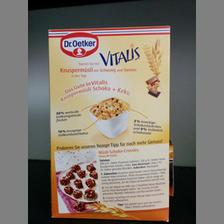Cerealien: (45, 24, 171, 219)
